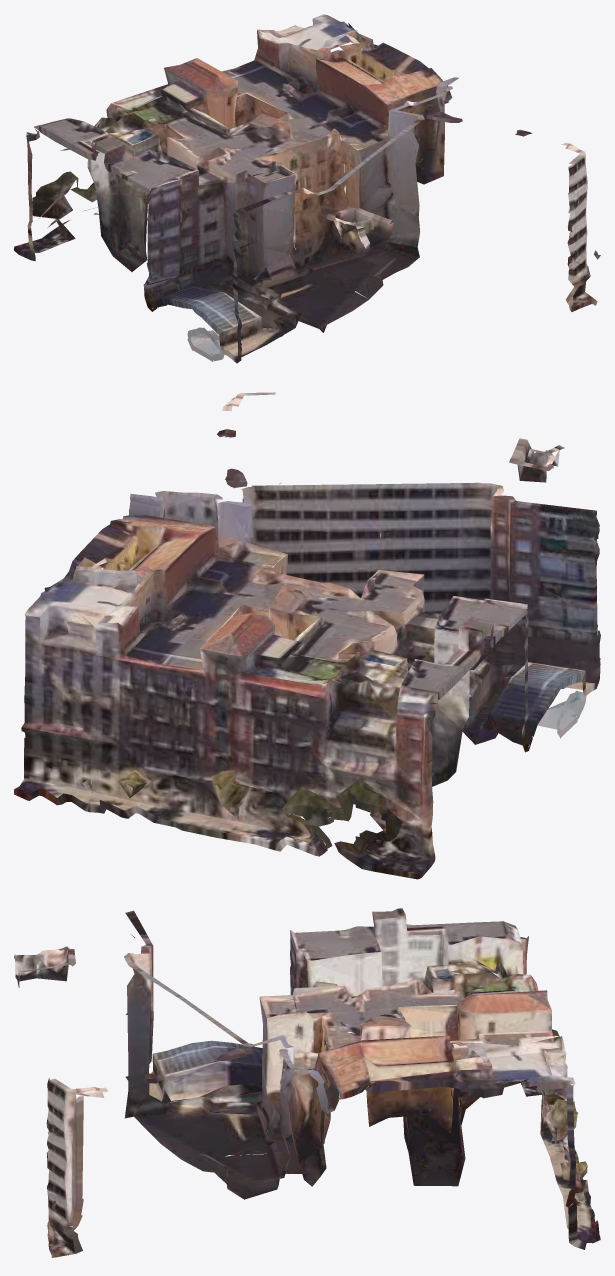
The picture shows the model from 3 angles, top to bottom: view 1: azimuth 30°, elevation 25°; view 2: azimuth 150°, elevation 25°; view 3: azimuth 270°, elevation 25°; orthographic projection. The views are drawn at different scales.
Visible parts, largest first — view 1: Mesh_0; view 2: Mesh_0; view 3: Mesh_0.
Part boxes in pixels (left/top/right/bottom): Mesh_0: left=14, top=14, right=600, bottom=363; Mesh_0: left=14, top=392, right=600, bottom=879; Mesh_0: left=14, top=908, right=600, bottom=1257.
Bounding box in the file's own units: 67.42 × 29.07 × 81.18.
Materials: 2 (2 with a texture image).
